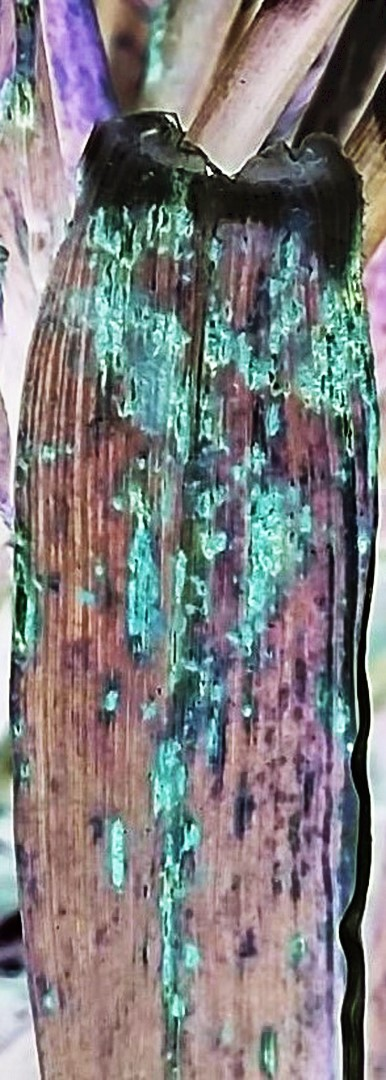Leaf Rust: (9, 210, 386, 971)
